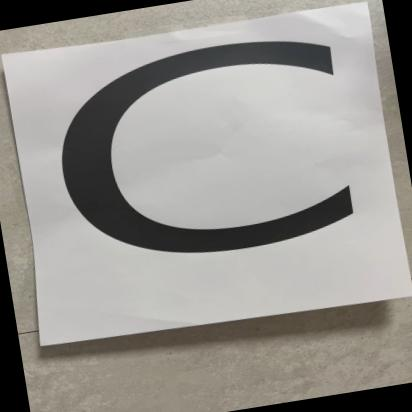seat: (7, 2, 405, 347)
